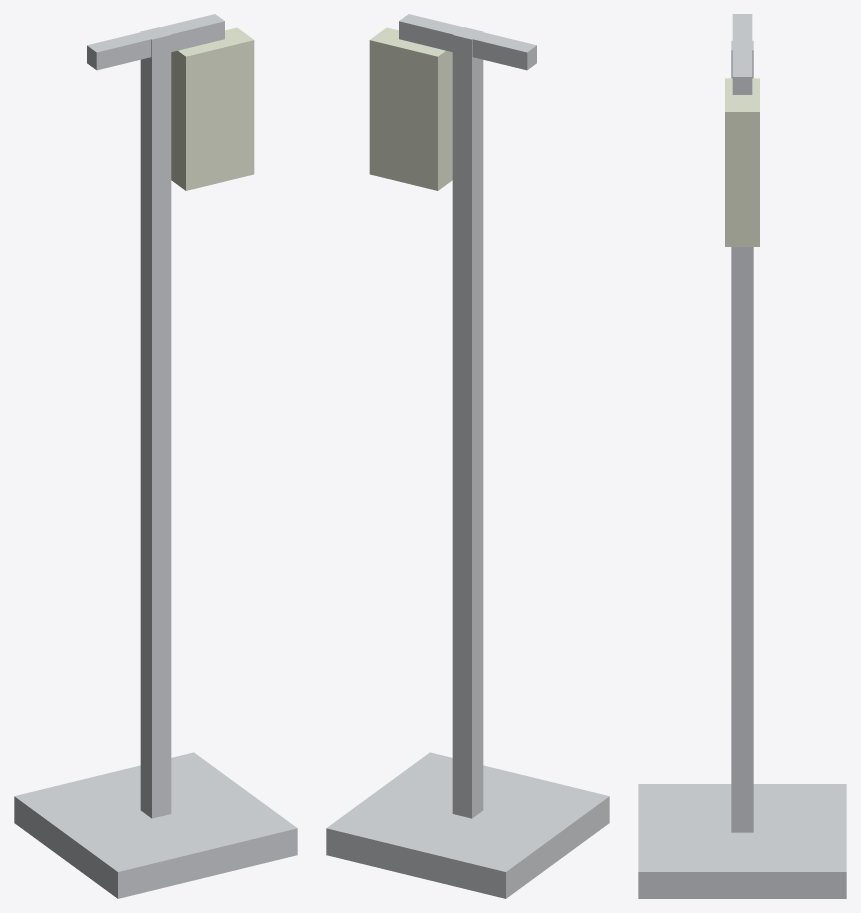
File: mov_709e5a0dea.gltf
3 renders of one model, left to right at view 1: azimuth 30°, elevation 25°; view 2: azimuth 150°, elevation 25°; view 3: azimuth 270°, elevation 25°, orthographic.
Visible parts, largest first — view 1: mov_709e5a0dea; view 2: mov_709e5a0dea; view 3: mov_709e5a0dea.
Part boxes in pixels (bbox=[...]): mov_709e5a0dea: bbox=[14, 14, 297, 898]; mov_709e5a0dea: bbox=[326, 14, 609, 898]; mov_709e5a0dea: bbox=[638, 14, 846, 898].
Size of the model in its own units: 0.42 by 1.8 by 0.42.
